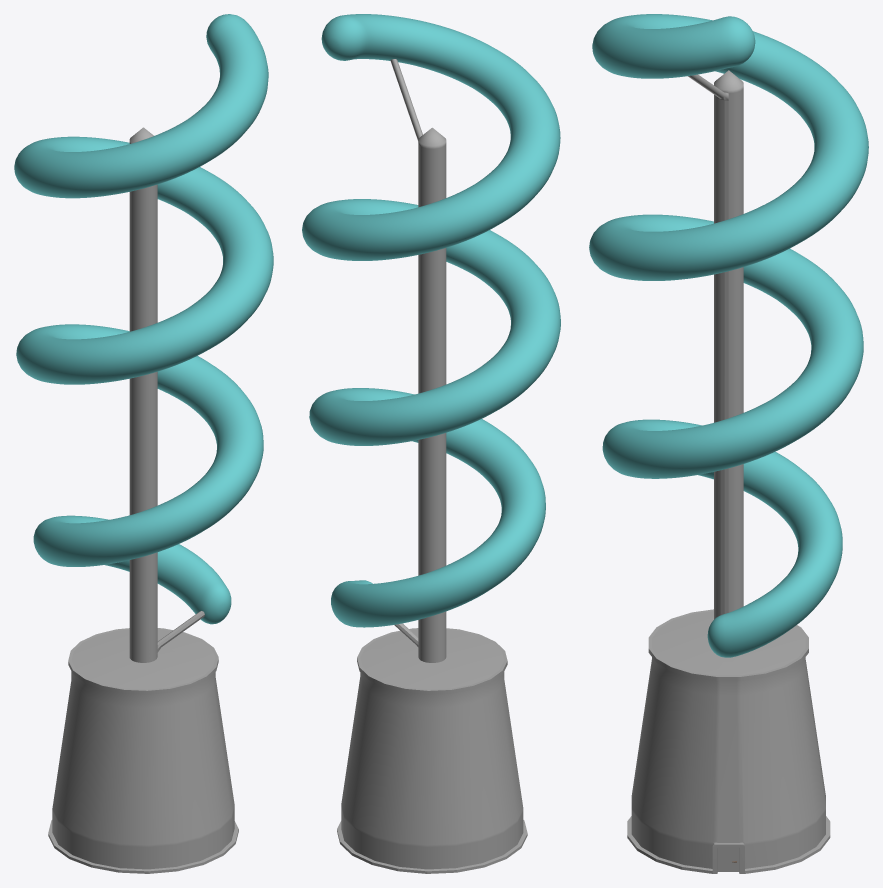
The model's file is SM_lighthouse5.fbx.
The picture shows the model from 3 angles, left to right: view 1: azimuth 30°, elevation 25°; view 2: azimuth 150°, elevation 25°; view 3: azimuth 270°, elevation 25°; orthographic projection. The views are drawn at different scales.
Visible parts, largest first — view 1: lighthouse; view 2: lighthouse; view 3: lighthouse.
Part boxes in pixels (x1,y1,x2,y2): lighthouse: (14,14,273,873); lighthouse: (302,14,560,873); lighthouse: (589,14,868,873).
Bounding box in the file's own units: 18.51 × 62.73 × 18.55.
